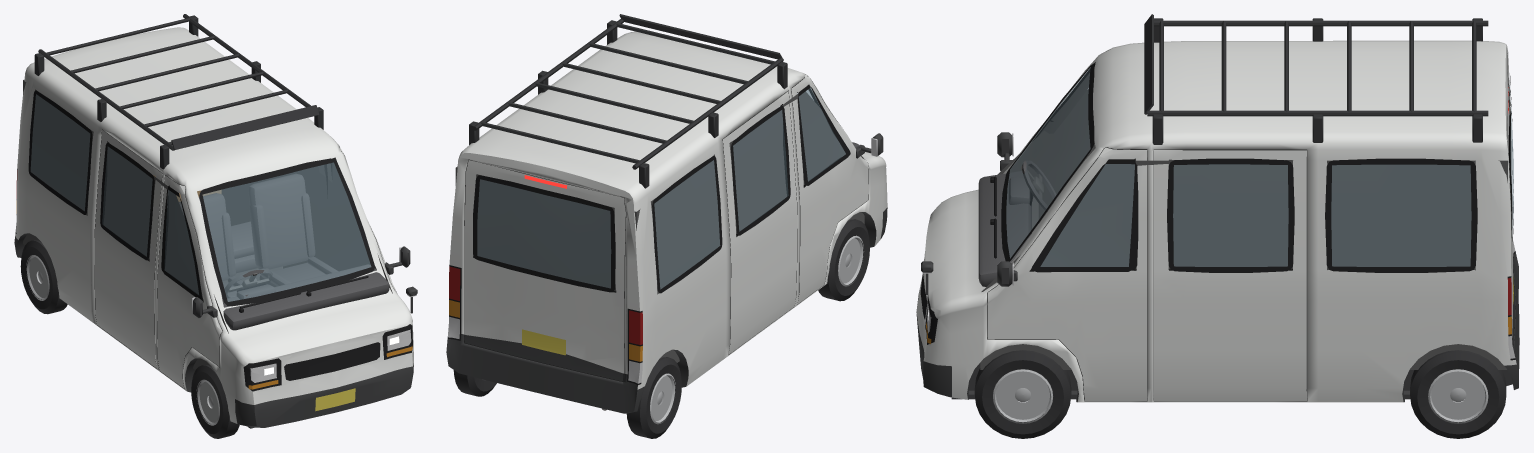
Rendered from kei-van.glb.
The picture shows the model from 3 angles, left to right: view 1: azimuth 30°, elevation 25°; view 2: azimuth 150°, elevation 25°; view 3: azimuth 270°, elevation 25°; orthographic projection. The views are drawn at different scales.
Parts seen in each view (by area): view 1: body, interior, glass_windscreen, door_slide_R_body, roof_rack, door_FR_body, glass_quarter_R, glass_slide_R, glass_door_R, wheel_FR_mesh, wheel_RR_mesh, steering_wheel_mesh (+1 smaller); view 2: body, interior, tailgate_body, glass_rear, door_slide_R_body, roof_rack, door_FR_body, glass_quarter_R, glass_slide_R, glass_door_R, wheel_RR_mesh, wheel_FR_mesh (+1 smaller); view 3: body, interior, door_slide_L_body, door_FL_body, glass_quarter_L, glass_slide_L, roof_rack, glass_windscreen, glass_door_L, wheel_FL_mesh, wheel_RL_mesh, door_FR_body (+3 smaller).
Part boxes in pixels (x1,y1,x2,y2): body: (14, 27, 413, 427); interior: (23, 79, 392, 369); glass_windscreen: (199, 158, 374, 306); door_slide_R_body: (94, 129, 162, 368); roof_rack: (34, 14, 323, 169); door_FR_body: (157, 175, 222, 388); glass_quarter_R: (28, 90, 92, 214); glass_slide_R: (100, 143, 154, 260); glass_door_R: (161, 186, 202, 300); wheel_FR_mesh: (191, 364, 239, 438); wheel_RR_mesh: (20, 240, 67, 314); steering_wheel_mesh: (224, 269, 272, 298); body: (446, 31, 887, 413); interior: (455, 91, 864, 362); tailgate_body: (464, 159, 626, 381); glass_rear: (473, 175, 615, 292); door_slide_R_body: (722, 91, 797, 354); roof_rack: (469, 14, 787, 188); door_FR_body: (791, 74, 868, 304); glass_quarter_R: (652, 156, 722, 293); glass_slide_R: (731, 106, 790, 235); glass_door_R: (798, 84, 850, 185); wheel_RR_mesh: (626, 357, 681, 438); wheel_FR_mesh: (818, 219, 869, 301); body: (916, 40, 1519, 402); interior: (978, 54, 1507, 369); door_slide_L_body: (1153, 149, 1306, 401); door_FL_body: (987, 147, 1147, 401); glass_quarter_L: (1325, 158, 1477, 272); glass_slide_L: (1167, 158, 1294, 272); roof_rack: (1144, 14, 1488, 144); glass_windscreen: (1001, 63, 1094, 261); glass_door_L: (1031, 159, 1138, 272); wheel_FL_mesh: (974, 350, 1071, 438); wheel_RL_mesh: (1410, 350, 1506, 438); door_FR_body: (1032, 62, 1095, 141).
Size of the model in its own units: 1.78 by 2.03 by 3.39.
